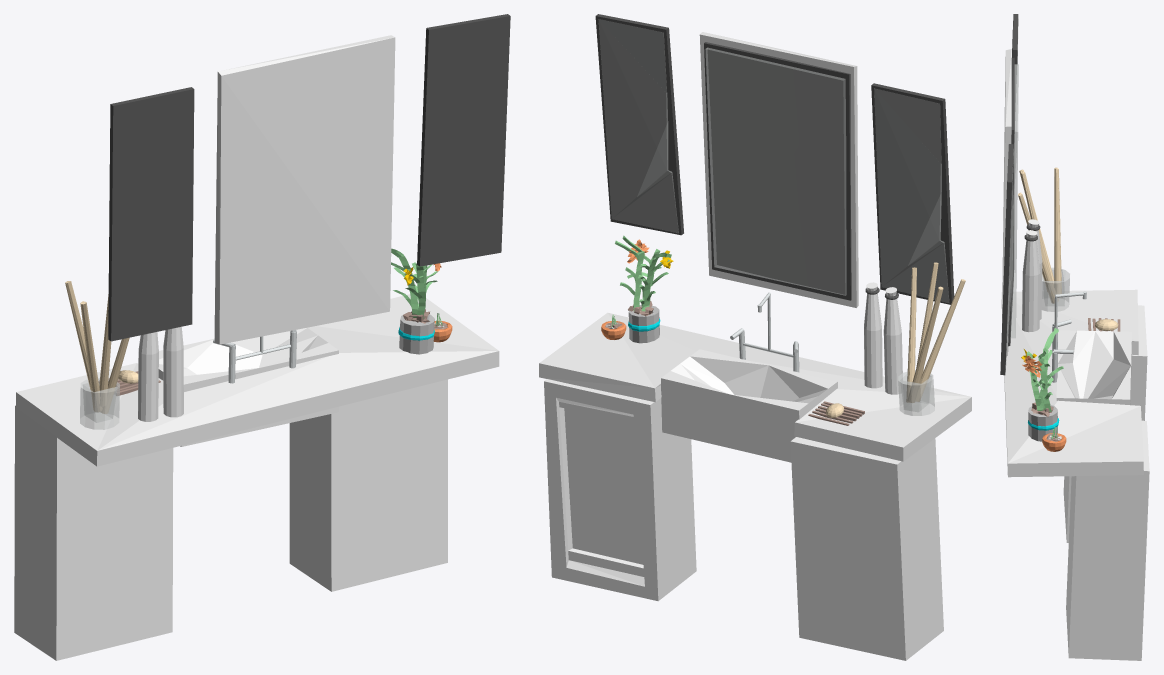
Rendered from Bath.fbx.
3 views of the same model, side by side, from view 1: azimuth 30°, elevation 25°; view 2: azimuth 150°, elevation 25°; view 3: azimuth 270°, elevation 25° (orthographic). The views are drawn at different scales.
Parts seen in each view (by area): view 1: group15461534, group1575744091, group263665574, group1018056280, group610183896, group991233197, group340643401, group648614096, group1195470410, group1093224649, group1839963629, group116327191; view 2: group852497830, group792461075, group1575744091, group263665574, group1018056280, group610183896, group991233197, group340643401, group189638433, group2107955321, group15461534, group648614096 (+6 smaller); view 3: group1018056280, group263665574, group340643401, group1575744091, group648614096, group610183896, group792461075, group15461534, group852497830, group1093224649, group154175267, group1839963629 (+10 smaller).
Boxes of the visible parts, box(x1,y1,x2,y2) form: group15461534: box(214, 35, 395, 344); group1575744091: box(14, 405, 173, 660); group263665574: box(289, 379, 447, 591); group1018056280: box(16, 294, 499, 466); group610183896: box(417, 14, 510, 266); group991233197: box(108, 87, 194, 341); group340643401: box(158, 327, 338, 446); group648614096: box(163, 326, 183, 417); group1195470410: box(138, 332, 158, 421); group1093224649: box(80, 378, 119, 429); group1839963629: box(399, 314, 434, 354); group116327191: box(80, 301, 102, 412); group852497830: box(704, 42, 851, 300); group792461075: box(705, 47, 846, 295); group1575744091: box(790, 437, 943, 660); group263665574: box(544, 379, 696, 601); group1018056280: box(539, 312, 971, 461); group610183896: box(595, 14, 683, 235); group991233197: box(871, 83, 954, 304); group340643401: box(661, 349, 837, 462); group189638433: box(598, 19, 678, 233); group2107955321: box(874, 88, 949, 302); group15461534: box(699, 32, 858, 307); group648614096: box(864, 282, 882, 388); group1018056280: box(1001, 289, 1143, 477); group263665574: box(1066, 420, 1149, 660); group340643401: box(1056, 330, 1131, 404); group1575744091: box(1063, 305, 1147, 542); group648614096: box(1022, 230, 1040, 332); group610183896: box(1000, 144, 1013, 375); group792461075: box(1010, 64, 1018, 338); group15461534: box(1002, 49, 1011, 355); group852497830: box(1008, 57, 1014, 346); group1093224649: box(1042, 267, 1069, 311); group154175267: box(1054, 167, 1061, 293); group1839963629: box(1028, 404, 1057, 441).
Bounding box in the file's own units: 419 × 554 × 149.
